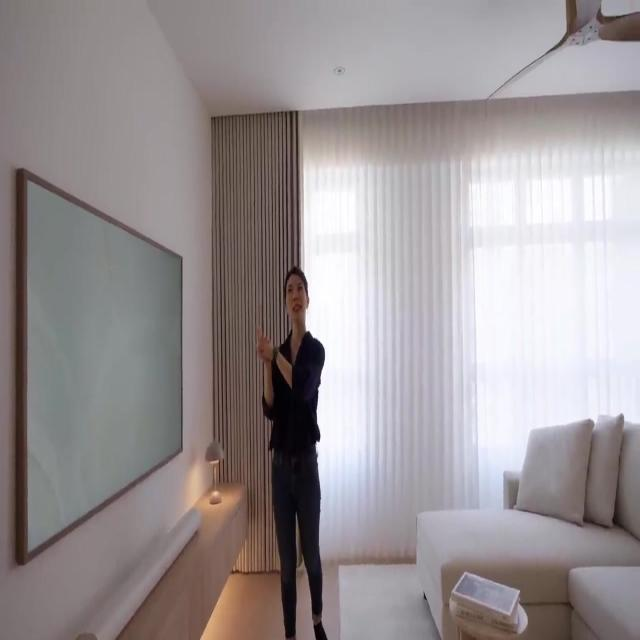obstacle: (416, 412, 638, 638)
person: (255, 266, 328, 640)
